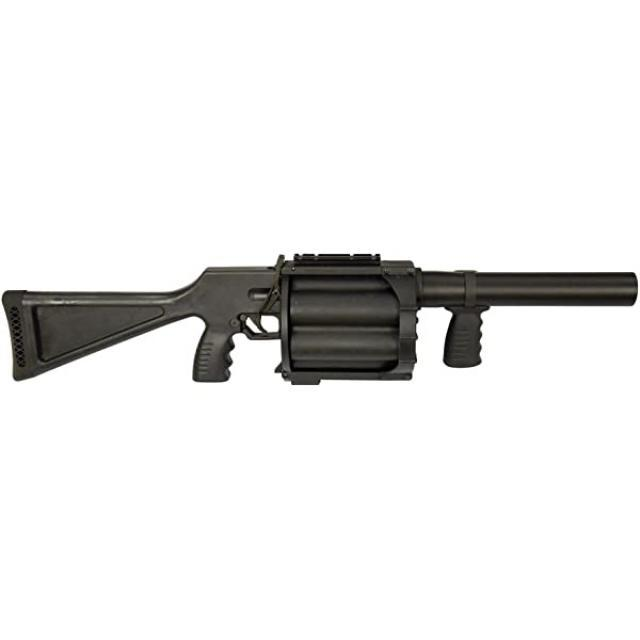rocket launcher: (2, 216, 640, 477)
